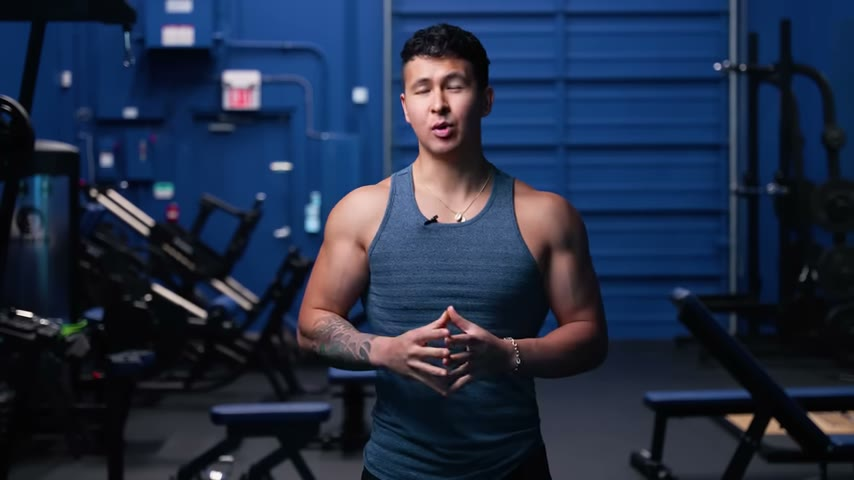barbell_plate_side: (457, 199, 578, 472)
